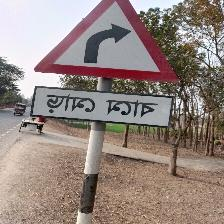Left-Turn: (24, 0, 183, 132)
